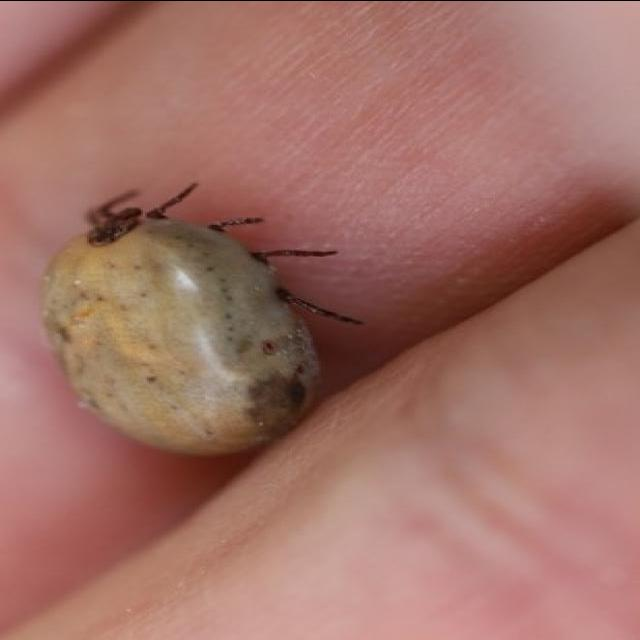Dermacentor Reticulatus-F-Fed: (39, 180, 367, 454)
